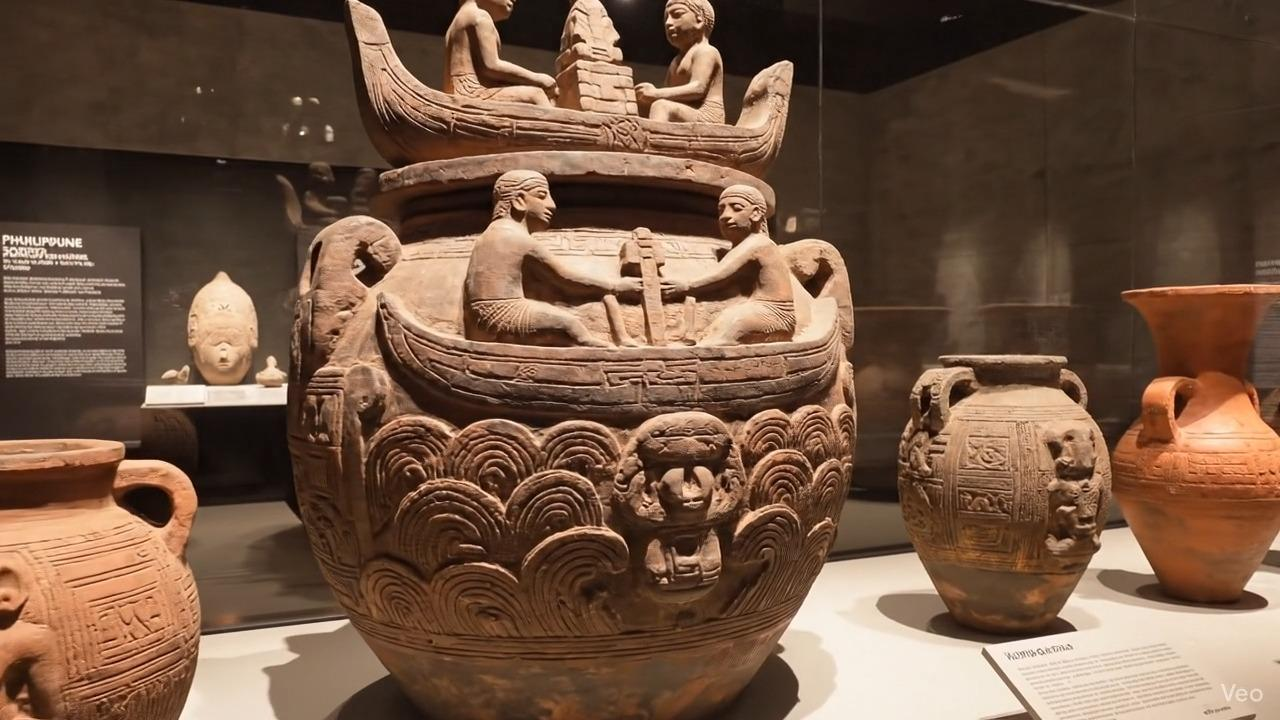manunggul_jar: (282, 0, 866, 720)
